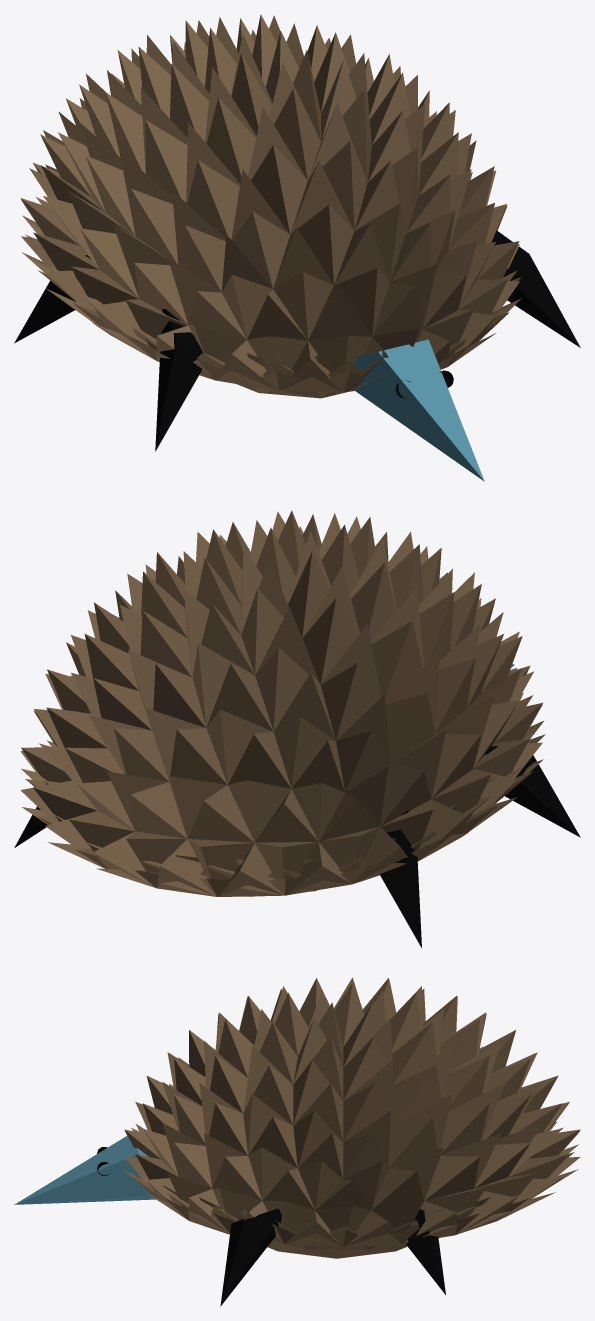
File: Prickidna.fbx
3 renders of one model, top to bottom at view 1: azimuth 30°, elevation 25°; view 2: azimuth 150°, elevation 25°; view 3: azimuth 270°, elevation 25°, orthographic. The views are drawn at different scales.
Parts seen in each view (by area): view 1: Icosphere, Cone.002, Cone.001, Cone.004; view 2: Icosphere, Cone.004, Cone.002; view 3: Icosphere, Cone.001, Cone.003.
Boxes of the visible parts, left/top/right/bottom form: Icosphere: left=21, top=14, right=521, bottom=481; Cone.002: left=155, top=309, right=203, bottom=451; Cone.001: left=491, top=230, right=580, bottom=347; Cone.004: left=14, top=255, right=90, bottom=343; Icosphere: left=20, top=510, right=545, bottom=896; Cone.004: left=379, top=810, right=421, bottom=947; Cone.002: left=484, top=746, right=580, bottom=837; Icosphere: left=14, top=977, right=580, bottom=1258; Cone.001: left=220, top=1208, right=281, bottom=1306; Cone.003: left=406, top=1209, right=445, bottom=1294.
Size of the model in its own units: 254 by 183 by 377.
